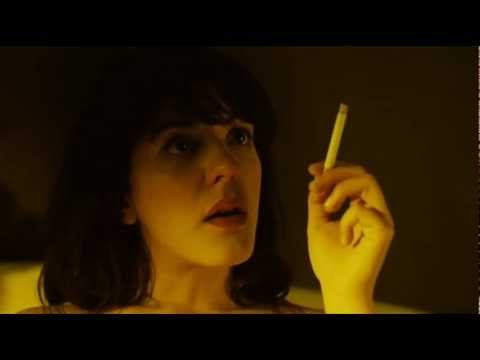cigarette: (318, 100, 351, 179)
